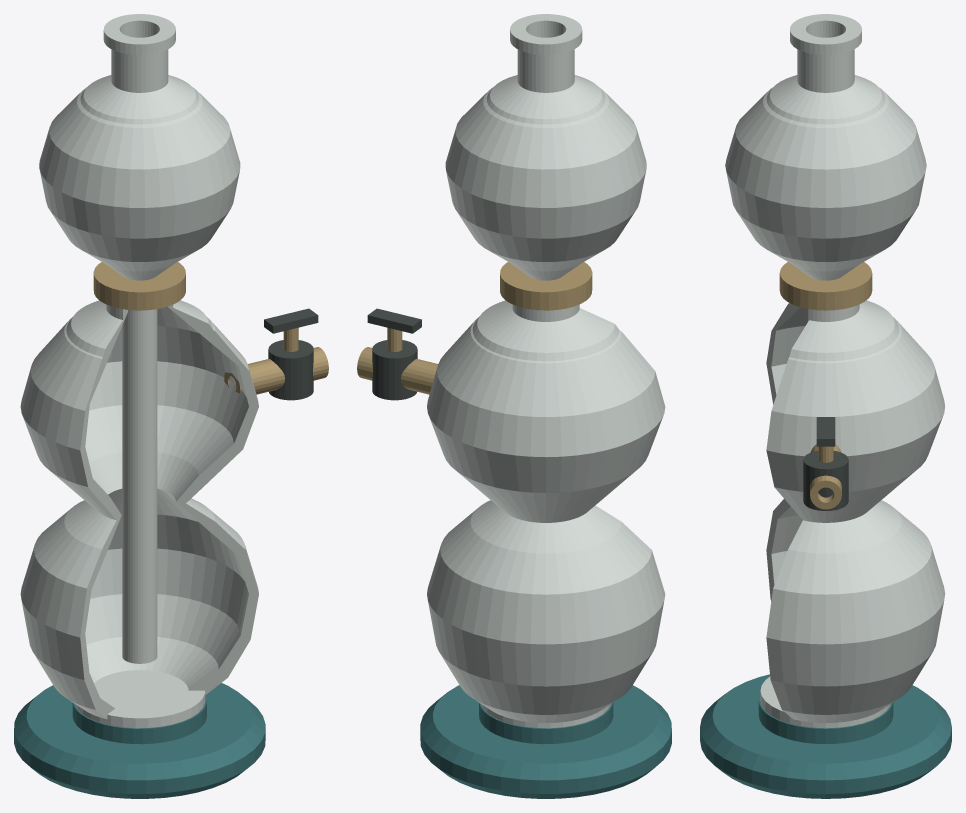
3 renders of one model, left to right at view 1: azimuth 30°, elevation 25°; view 2: azimuth 150°, elevation 25°; view 3: azimuth 270°, elevation 25°, orthographic.
Visible parts, largest first — view 1: WholeFrontCutawayCoaxialLowerAndMiddleShell, WholeUpperBulbAndLongHollowStem, WholeCircularGroundBase, WholeLowerChamberFloor, WholeAnnularUpperStemSeat, WholeFixedSideValveBarrel, WholeShortSideOutlet, WholeFixedValvePaddle; view 2: WholeFrontCutawayCoaxialLowerAndMiddleShell, WholeUpperBulbAndLongHollowStem, WholeCircularGroundBase, WholeAnnularUpperStemSeat, WholeFixedSideValveBarrel, WholeShortSideOutlet, WholeFixedValvePaddle, WholeLowerChamberFloor; view 3: WholeFrontCutawayCoaxialLowerAndMiddleShell, WholeUpperBulbAndLongHollowStem, WholeCircularGroundBase, WholeAnnularUpperStemSeat, WholeFixedSideValveBarrel, WholeLowerChamberFloor, WholeShortSideOutlet, WholeFixedValvePaddle.
Boxes of the visible parts, box(x1,y1,x2,y2) form: WholeFrontCutawayCoaxialLowerAndMiddleShell: box(20, 300, 258, 719); WholeUpperBulbAndLongHollowStem: box(39, 14, 240, 663); WholeCircularGroundBase: box(14, 683, 265, 798); WholeLowerChamberFloor: box(75, 670, 205, 728); WholeAnnularUpperStemSeat: box(93, 262, 185, 310); WholeFixedSideValveBarrel: box(268, 340, 313, 400); WholeShortSideOutlet: box(224, 347, 328, 394); WholeFixedValvePaddle: box(264, 308, 318, 333); WholeFrontCutawayCoaxialLowerAndMiddleShell: box(427, 300, 665, 722); WholeUpperBulbAndLongHollowStem: box(445, 14, 646, 280); WholeCircularGroundBase: box(420, 685, 671, 798); WholeAnnularUpperStemSeat: box(500, 262, 592, 310); WholeFixedSideValveBarrel: box(372, 340, 417, 400); WholeShortSideOutlet: box(357, 347, 437, 394); WholeFixedValvePaddle: box(367, 308, 421, 333); WholeLowerChamberFloor: box(481, 704, 610, 728); WholeFrontCutawayCoaxialLowerAndMiddleShell: box(766, 300, 945, 722); WholeUpperBulbAndLongHollowStem: box(725, 14, 926, 320); WholeCircularGroundBase: box(700, 674, 951, 798); WholeAnnularUpperStemSeat: box(779, 262, 872, 310); WholeFixedSideValveBarrel: box(803, 451, 848, 510); WholeLowerChamberFloor: box(760, 676, 890, 728); WholeShortSideOutlet: box(810, 444, 841, 509); WholeFixedValvePaddle: box(816, 417, 835, 446).
Size of the model in its own units: 0.399 by 0.947 by 0.3.
